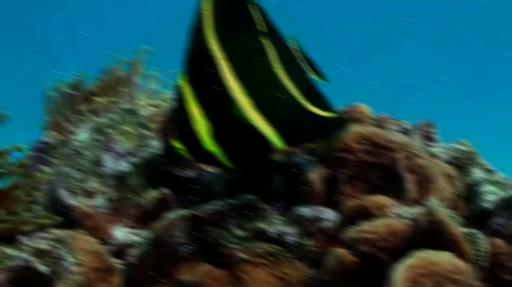Fish: (173, 0, 348, 170)
